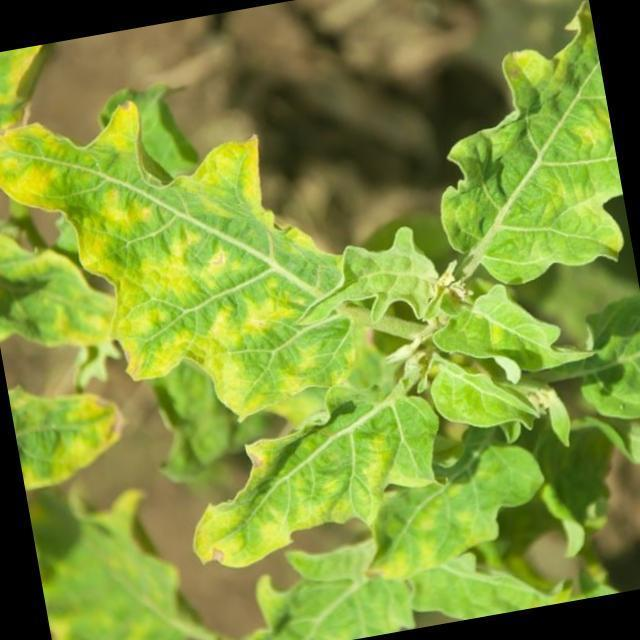Mosaic Virus: (0, 69, 360, 436), (407, 0, 632, 300), (177, 372, 463, 574)
